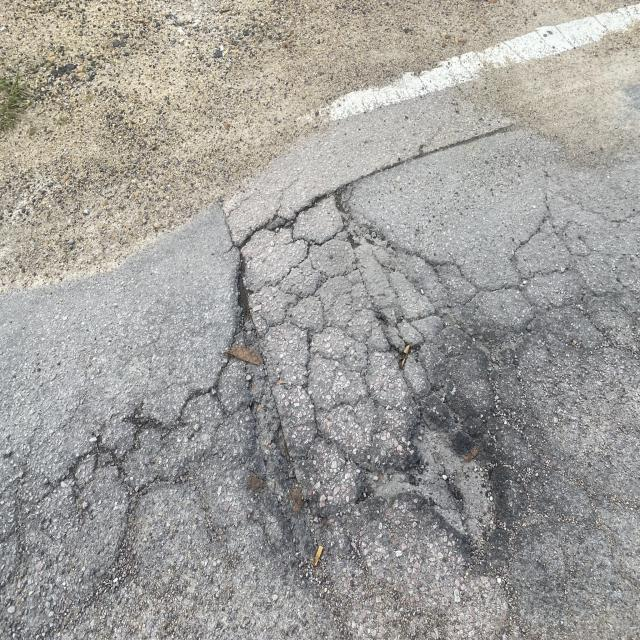pothole: (213, 184, 558, 606)
